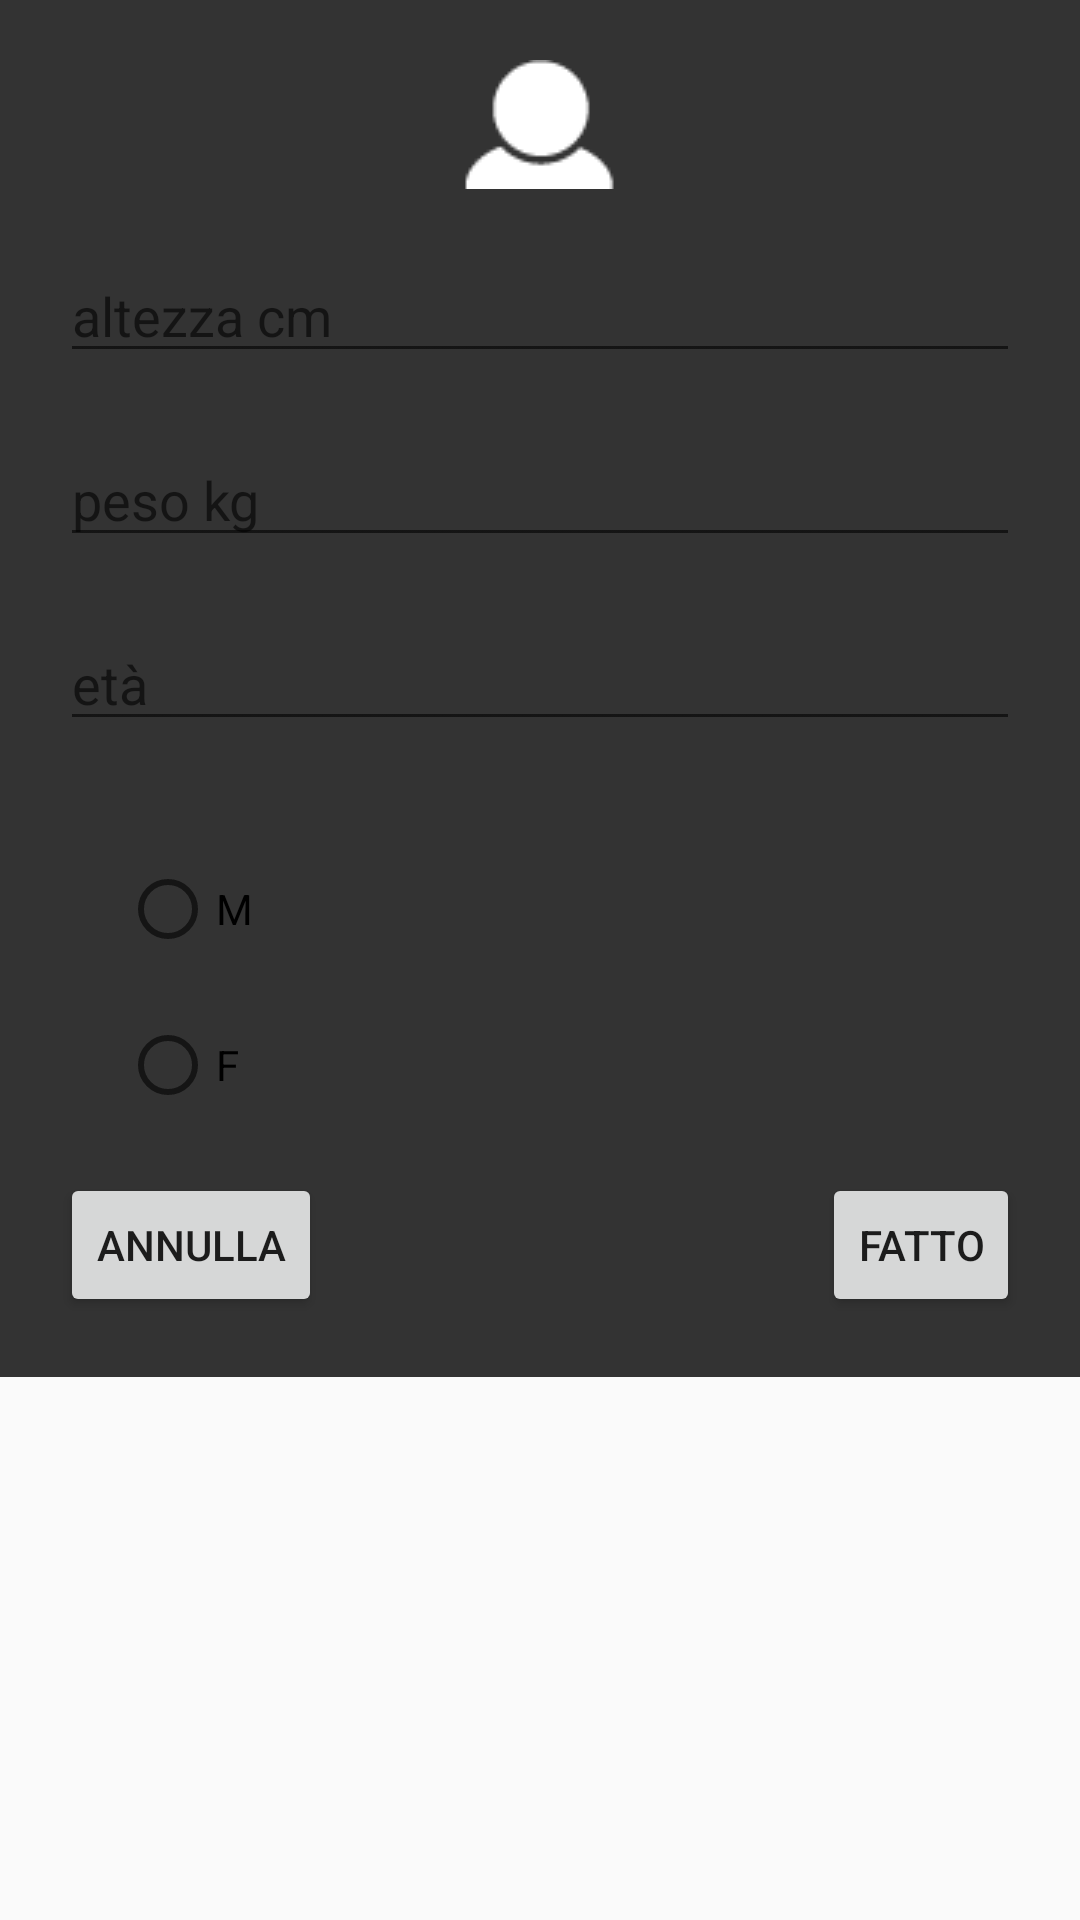

Screen size 1080 × 1920. Icon name, then its box in pixels as Rect(x1, y1, x2, y2):
profile action: Rect(465, 60, 614, 189)
